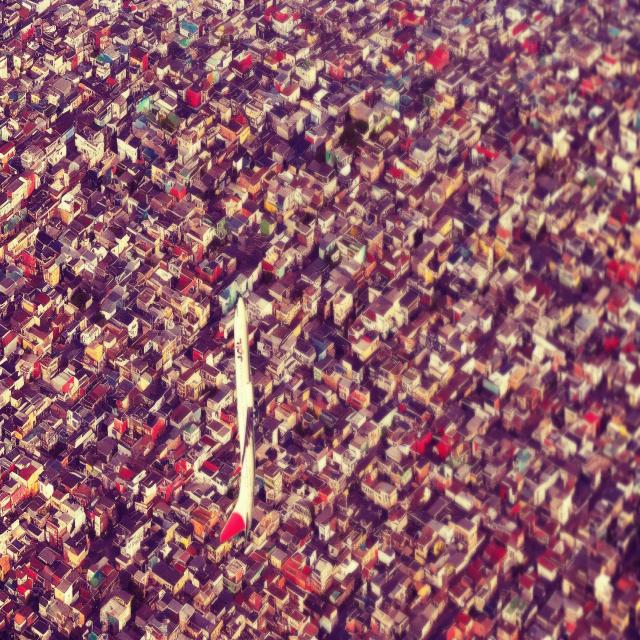airplane: (220, 295, 256, 545)
